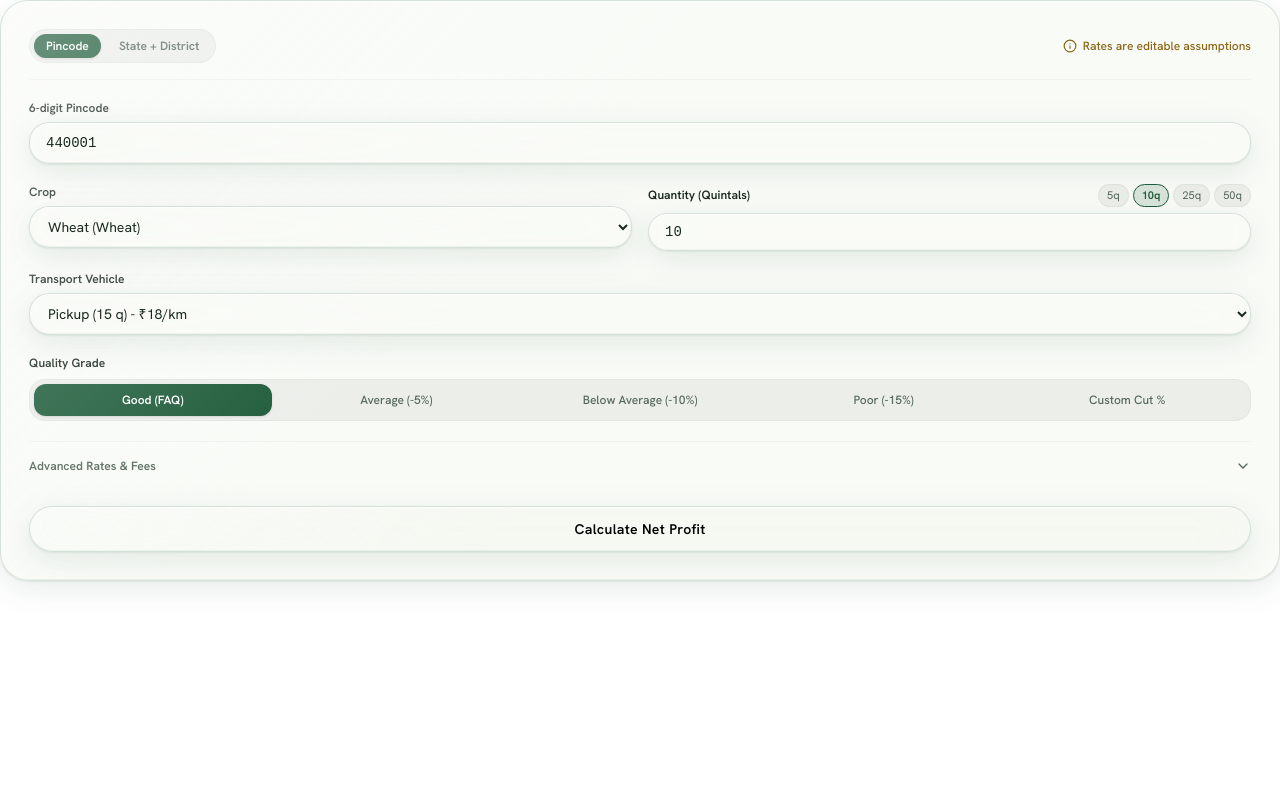
Test: SearchPanel Component › switches to State + District mode and validates district selection
The width and height of the screenshot is (1280, 800).
Expected: the button "Calculate Net Profit" is shown, [29,506,1251,552]
Click the button "State + District". click: (159, 46)
box: [107,34,211,58]
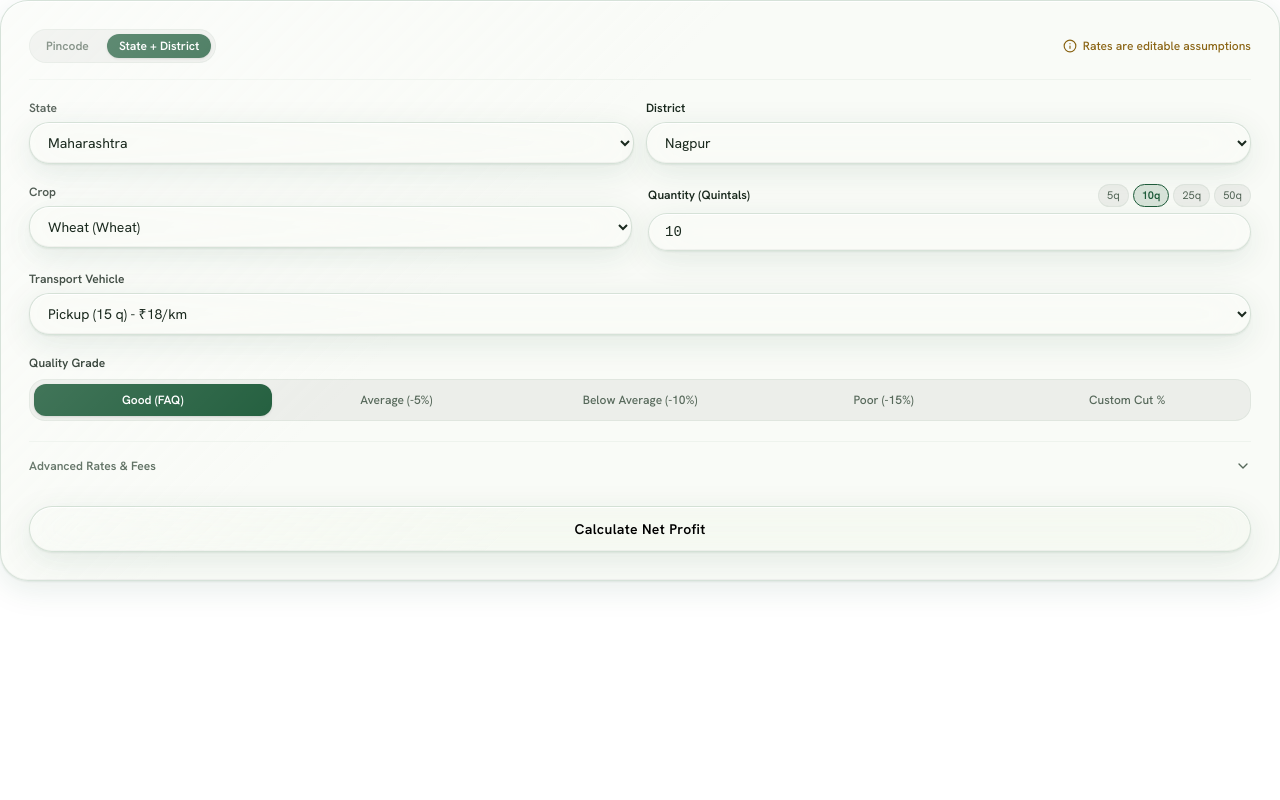
Select "Select District" in the dropdown labelled "District". click: (948, 143)
box: [646,122,1251,164]
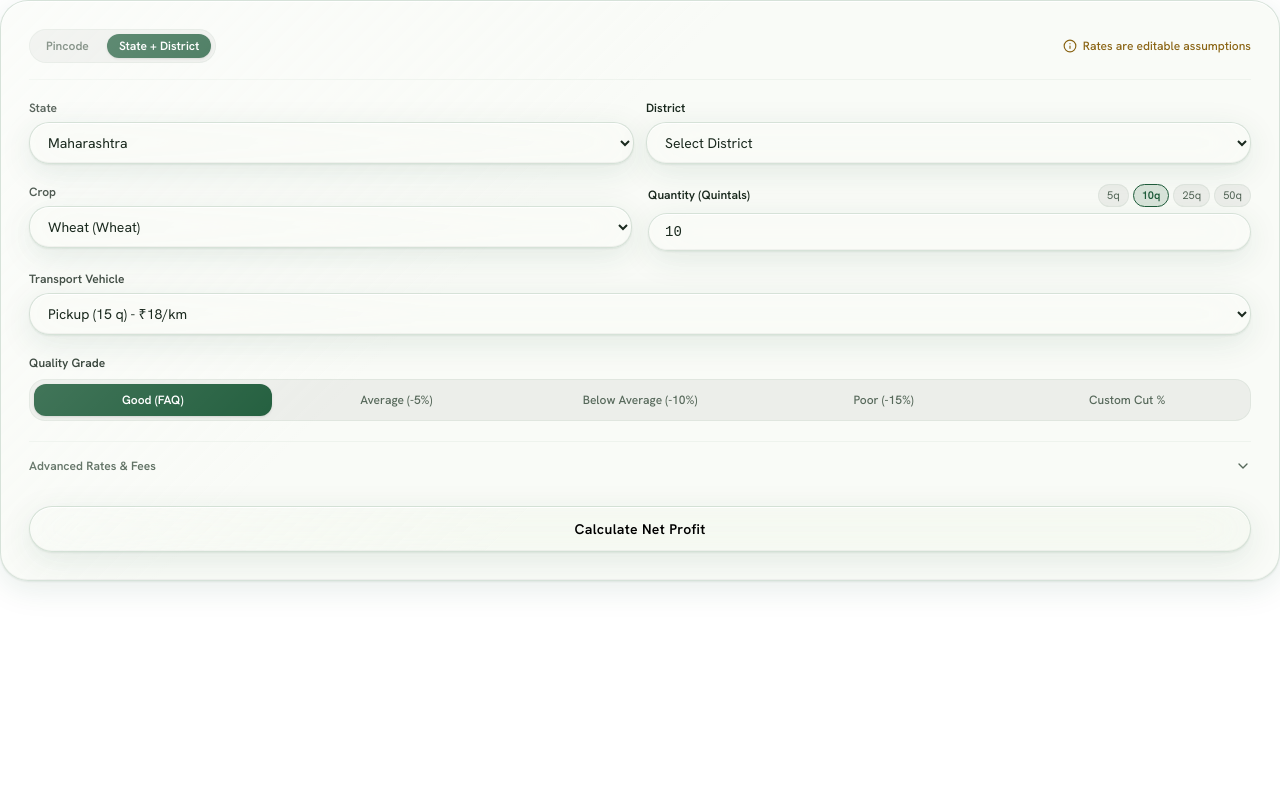
Click the button "Calculate Net Profit". click: (640, 528)
box: [29,506,1251,552]
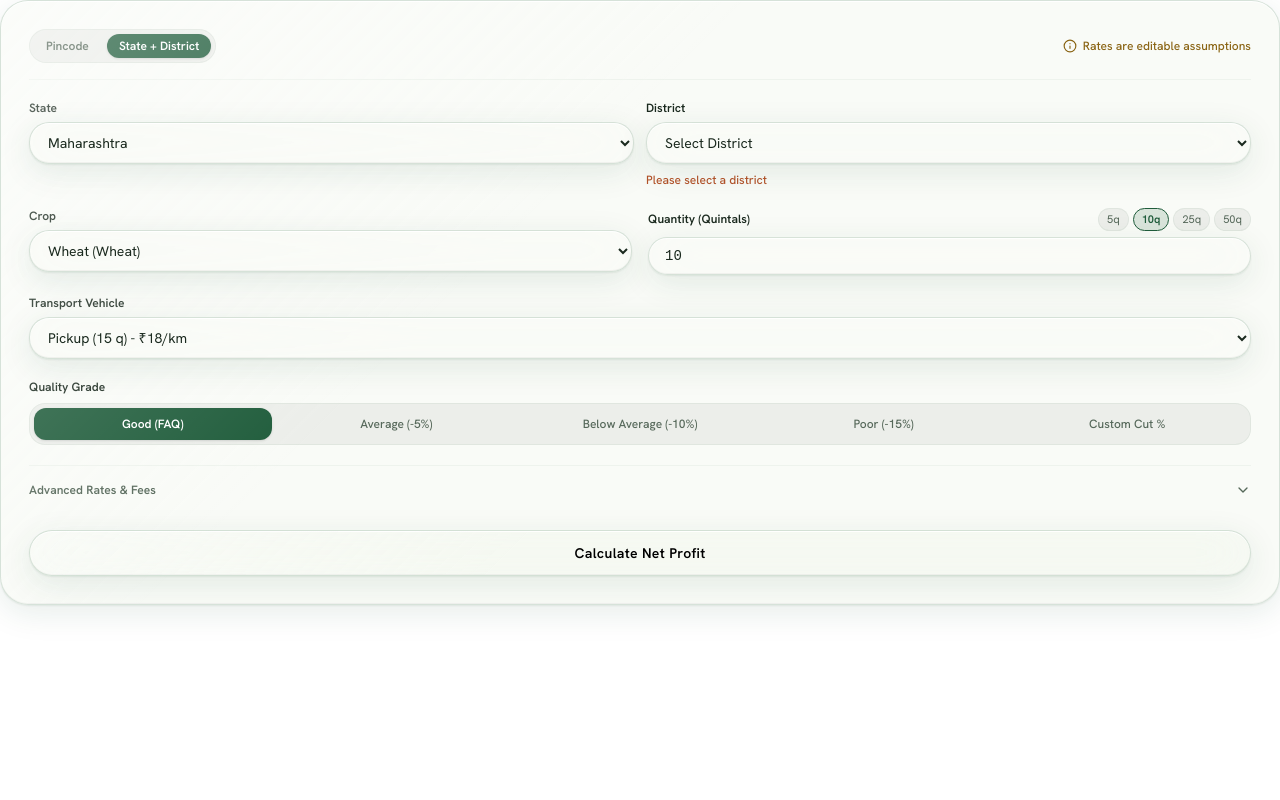
Result: the text "Please select a district" is shown at [646,172,767,188]
